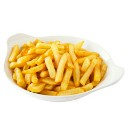frenchfries: (10, 38, 101, 91)
